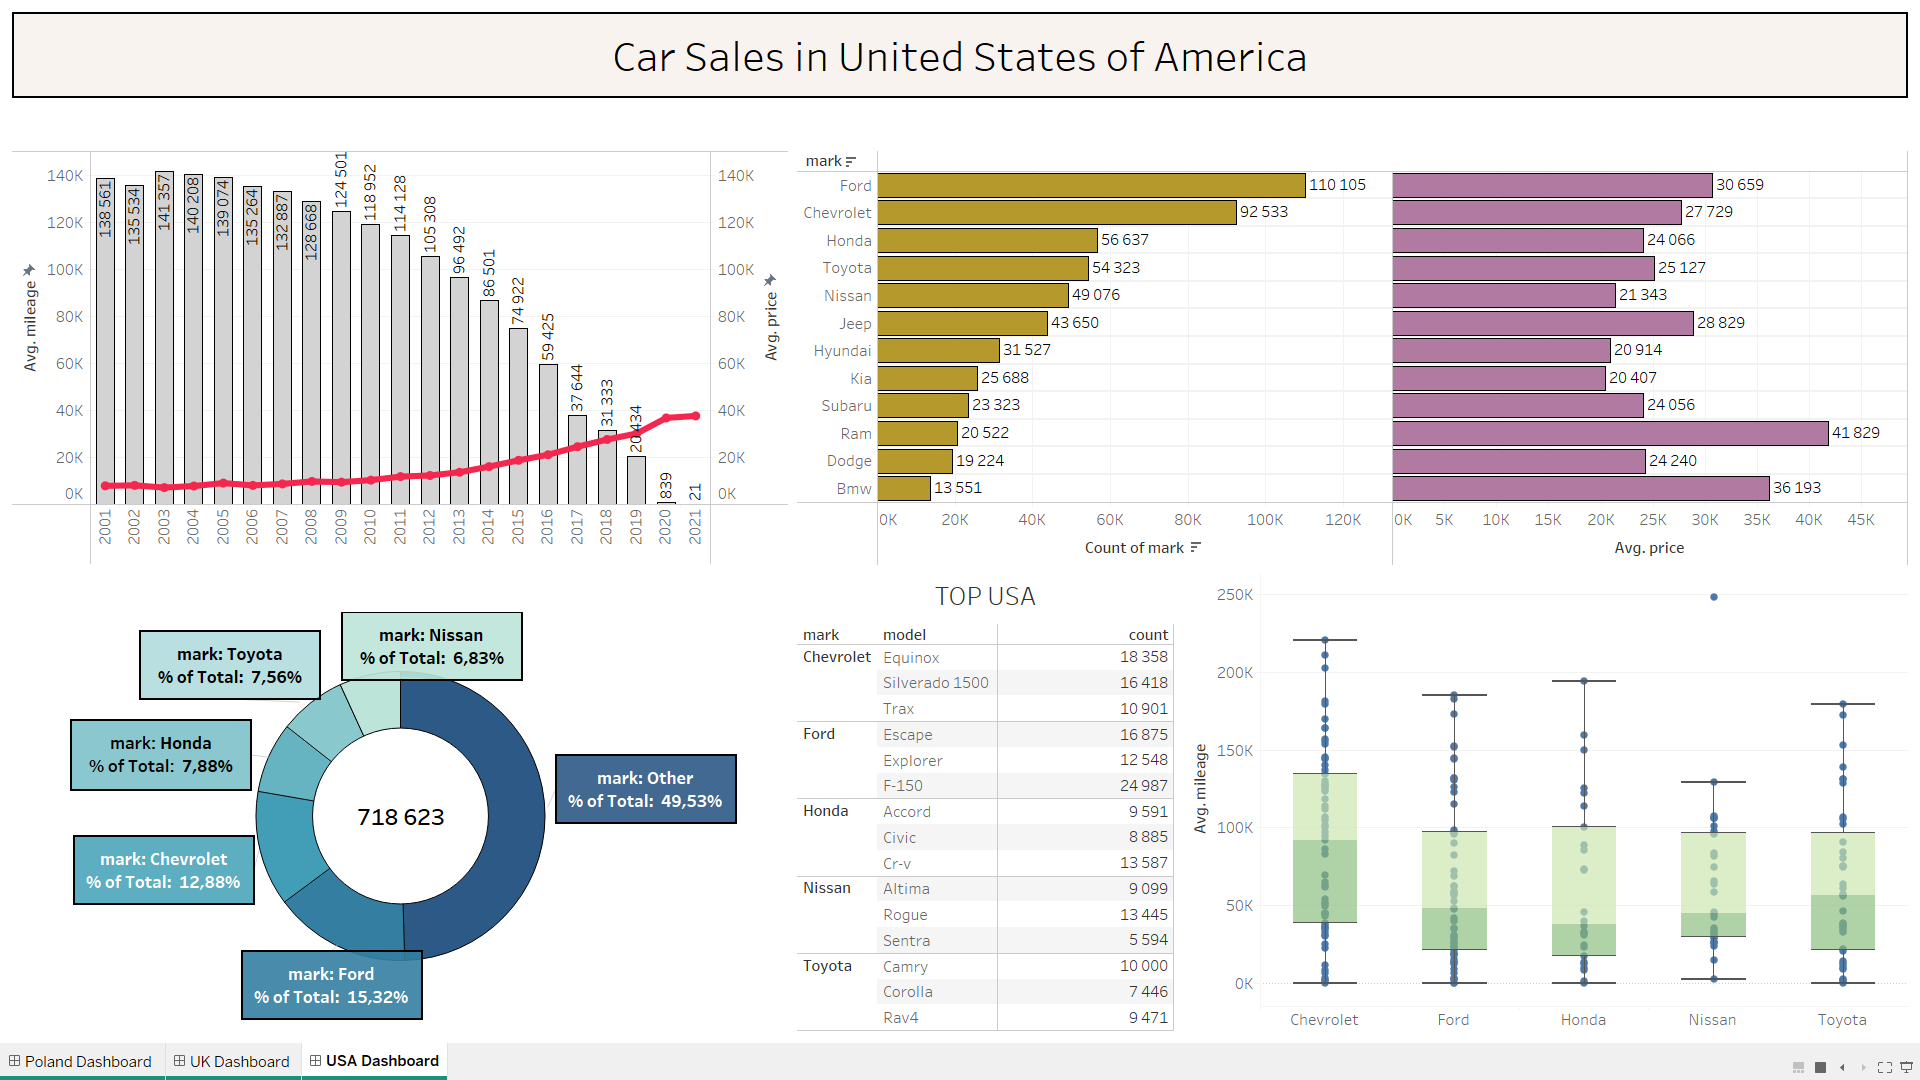

The page's visual inventory and layout, read from the dashboard file:
{"tool":"tableau","page":{"name":"USA Dashboard","canvas":[1000,1000],"units":"permille","ordinal":2},"visuals":[{"type":"text","box":[4.8,9.3,990.3,89.8]},{"type":"blank","box":[4.8,99,990.3,43.1]},{"type":"worksheet","title":"5) Cars Bar/Line USA","mark":"Automatic","rows":["mileage","price"],"cols":["Calculation_234750171515437056"],"box":[4.8,142.2,408.2,403.5]},{"type":"worksheet","title":"3) Sold/Avg Barplot USA","mark":"Automatic","rows":["mark"],"cols":["mark","price"],"box":[413.1,142.2,582.1,403.8]},{"type":"blank","box":[4.8,545.7,408.2,37.2]},{"type":"worksheet","title":"1) TOP USA","mark":"Automatic","rows":["mark","model"],"box":[413.1,546,200.1,444.7]},{"type":"worksheet","title":"2) Boxplot USA","mark":"Circle","rows":["mileage"],"cols":["mark"],"box":[613.1,546,382,444.7]},{"type":"worksheet","title":"4) Donut USA","mark":"Pie","rows":["mark","mark"],"box":[4.8,582.9,408.2,407.8]}]}

Visuals, with their boxes on the dashboard's canvas, which has no fixed pixel size, in thousandths of its width and height (x1, y1, x2, y2). These are canvas units, not pixel positions in the 1920x1080 screenshot, which may show the page scaled, cropped or inside an application window:
text: BBox(5, 9, 995, 99)
blank: BBox(5, 99, 995, 142)
"5) Cars Bar/Line USA" worksheet: BBox(5, 142, 413, 546)
"3) Sold/Avg Barplot USA" worksheet: BBox(413, 142, 995, 546)
blank: BBox(5, 546, 413, 583)
"1) TOP USA" worksheet: BBox(413, 546, 613, 991)
"2) Boxplot USA" worksheet (Circle marks): BBox(613, 546, 995, 991)
"4) Donut USA" worksheet (Pie marks): BBox(5, 583, 413, 991)
